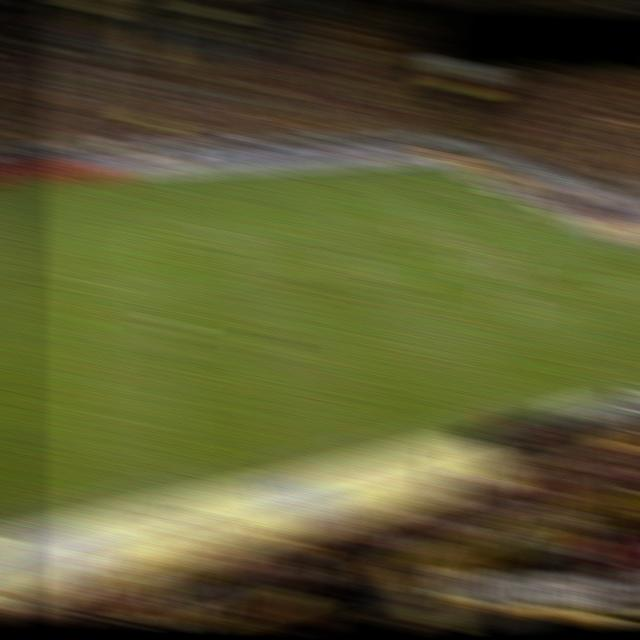bigarea_bottom_inner: (531, 286, 567, 304)
bigarea_top_inner: (368, 178, 404, 195)
bigarea_top_outter: (457, 174, 493, 191)
bottom_arc_area_intersection: (460, 238, 496, 256)
corner: (418, 156, 454, 173)
halfcircle_bottom: (140, 278, 176, 295)
halfcircle_top: (135, 216, 171, 234)
midline_bottom_intersection: (151, 474, 190, 493)
midline_top_intersection: (133, 168, 169, 186)
smallarea_bottom_inner: (542, 236, 578, 254)
smallarea_bottom_outter: (578, 232, 614, 250)
smallarea_top_inner: (465, 194, 501, 211)
smallarea_top_outter: (494, 192, 530, 210)
top_arc_area_intersection: (405, 202, 441, 219)
